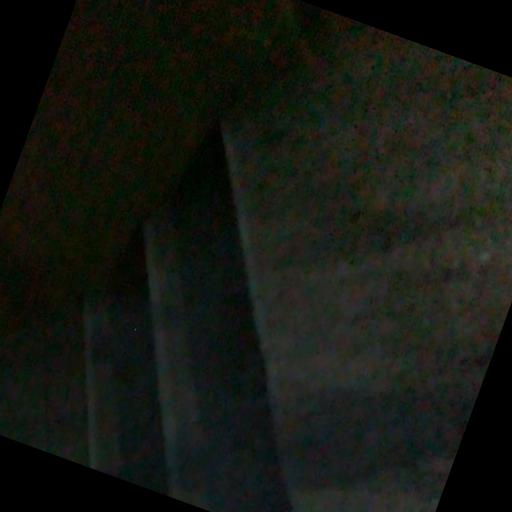stairs: (86, 17, 511, 511), (85, 131, 290, 511)
